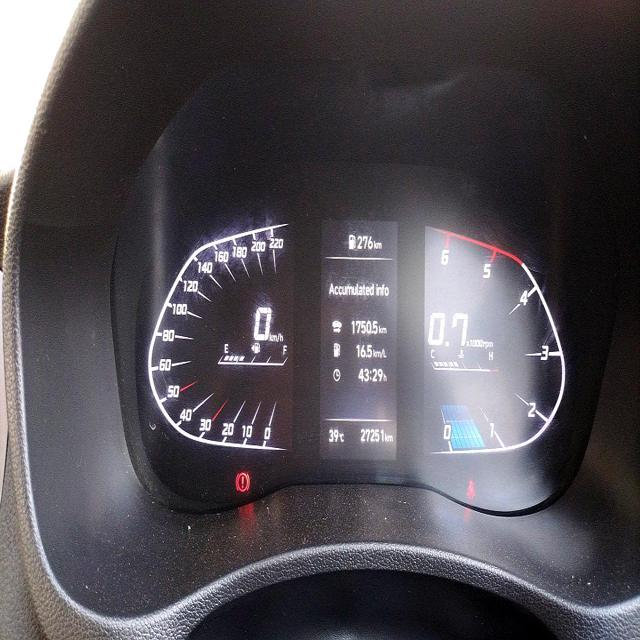odometer: (355, 423, 386, 448)
